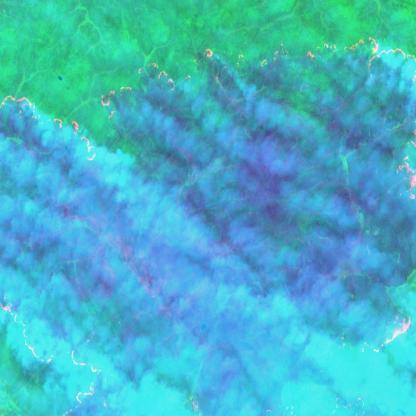fire: (100, 40, 340, 127), (0, 295, 110, 416), (343, 36, 416, 204), (0, 90, 101, 176), (371, 308, 416, 364)
